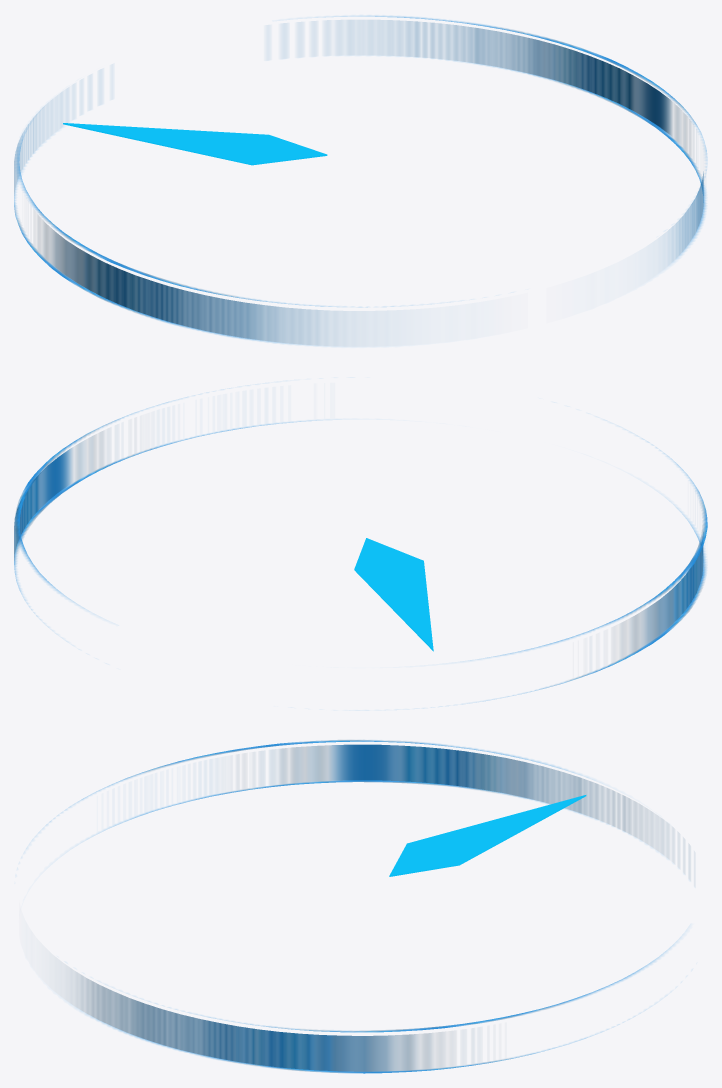
Rendered from dipan2.glb.
3 renders of one model, top to bottom at view 1: azimuth 30°, elevation 25°; view 2: azimuth 150°, elevation 25°; view 3: azimuth 270°, elevation 25°, orthographic.
Parts seen in each view (by area): view 1: 圆盘_2, 指针; view 2: 圆盘_2, 指针; view 3: 圆盘_2, 指针.
Part boxes in pixels (box(x1,y1,x2,y2)): 圆盘_2: box(14, 15, 706, 345); 指针: box(63, 123, 327, 165); 圆盘_2: box(14, 397, 707, 701); 指针: box(354, 538, 433, 651); 圆盘_2: box(47, 740, 673, 1073); 指针: box(389, 795, 586, 876).
Size of what is drawn, in the model's own units: 85.79 by 5.69 by 85.79.
Materials: 2 (1 with a texture image).
